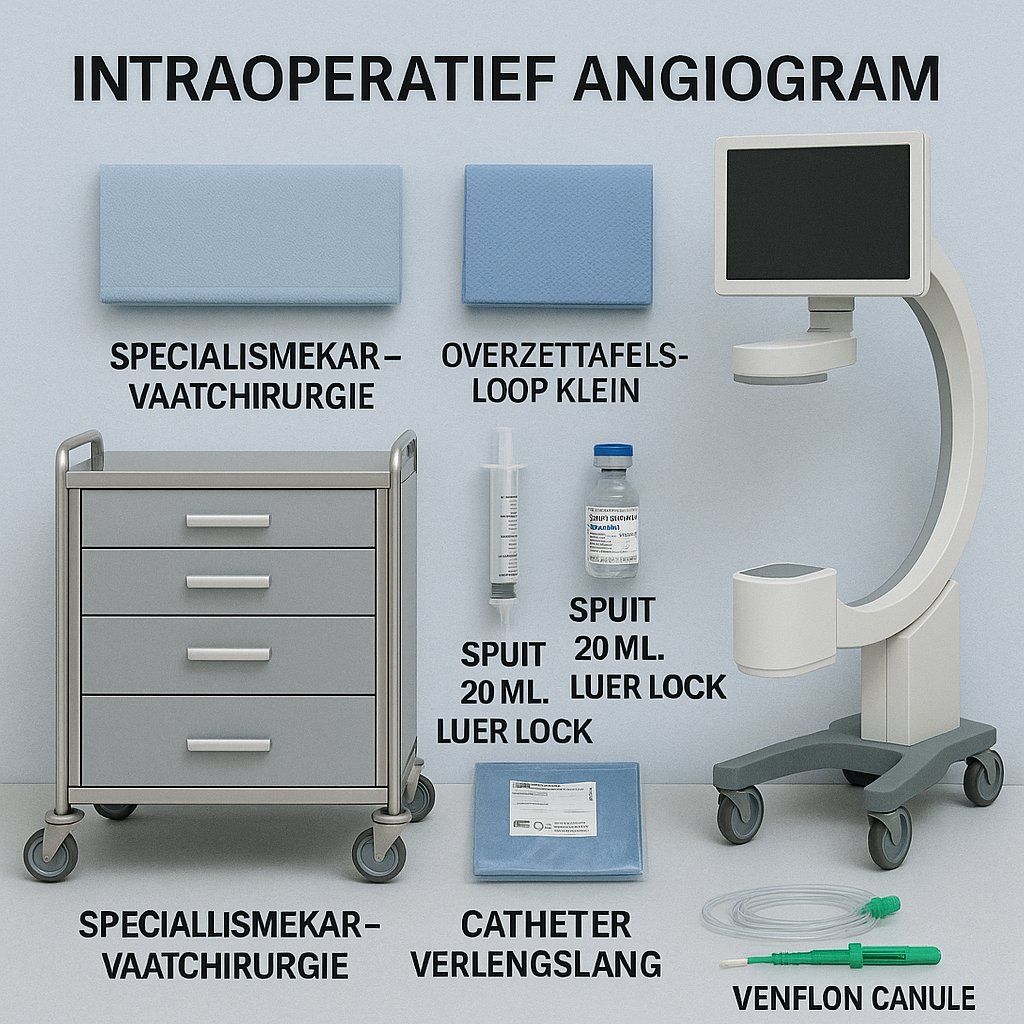c - boog met monitor: (701, 130, 1019, 876)
catheter verlengslang 141.80: (465, 750, 655, 883)
overzettafelsloop klein 9035 145 x 80 cm: (459, 151, 664, 322)
specialismekar - vaatchirurgie: (23, 426, 436, 882), (83, 146, 416, 321)
spuit 20ml. luer lock: (481, 415, 527, 634), (582, 436, 647, 581)
